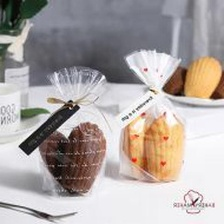snack: (12, 58, 116, 204), (109, 42, 193, 187)
